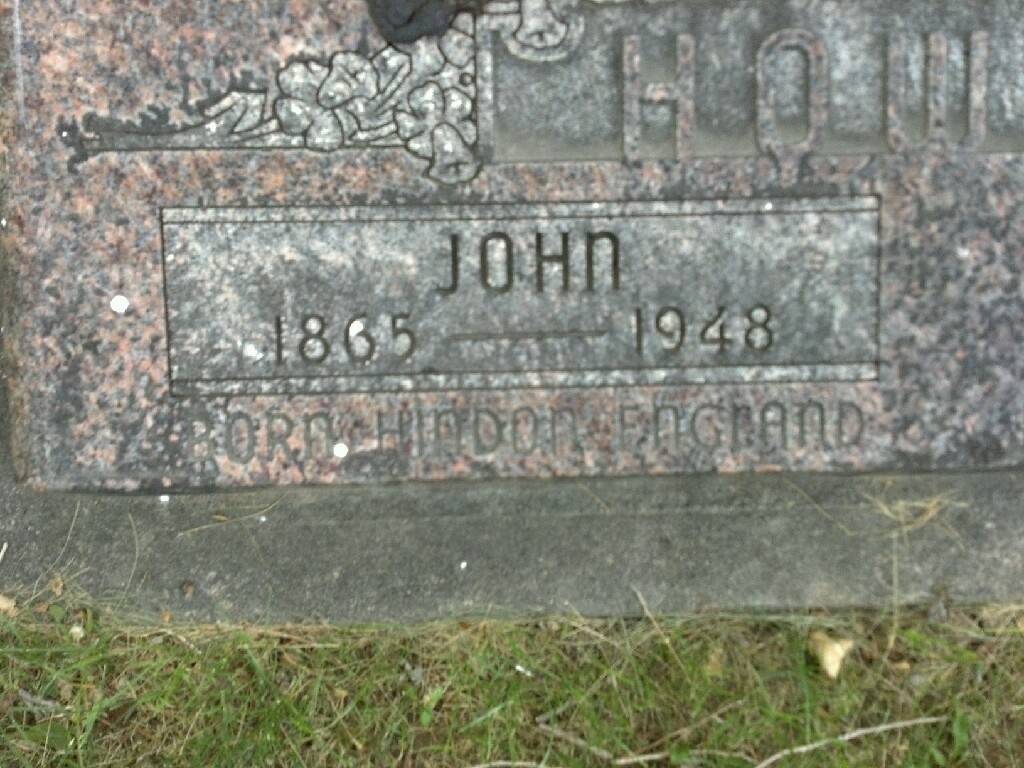flat: (0, 0, 1024, 535)
